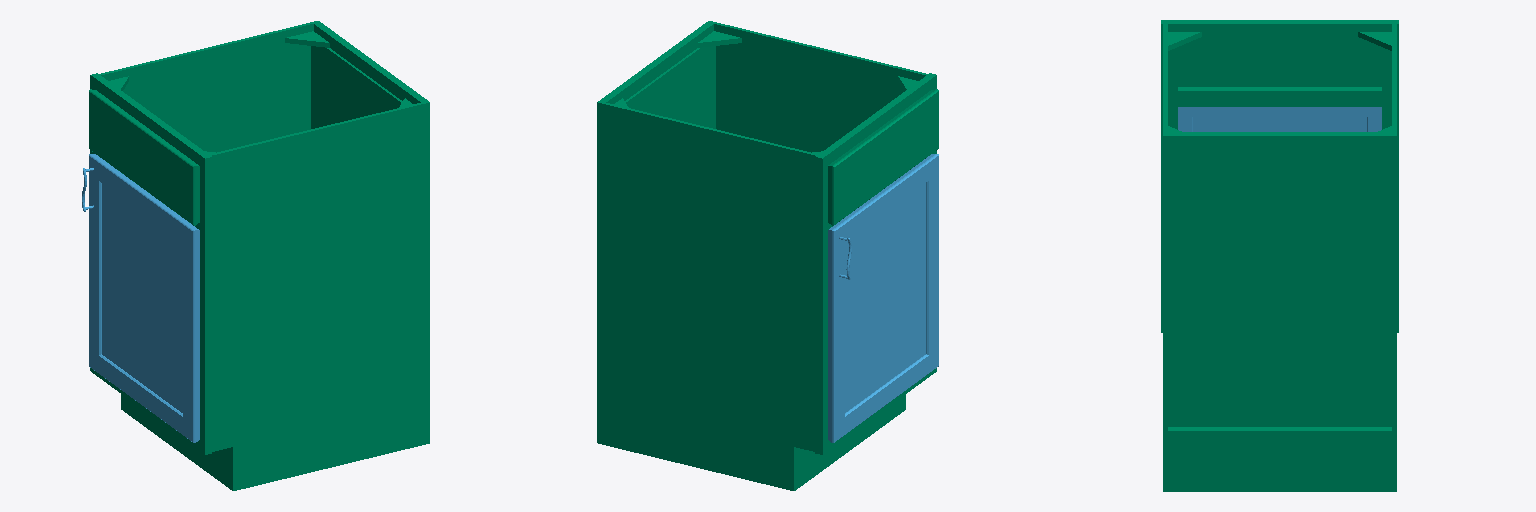
The robot description file, URDF, robot "partnet_29ce2b045bc6111912de5317fe5b354f":
<?xml version="1.0" ?>
<robot name="partnet_29ce2b045bc6111912de5317fe5b354f">
	<link name="base"/>
	<link name="link_0">
		<visual name="cabinet_door_surface-8">
			<origin xyz="-0.39708718953241895 -0.7673599720001221 -0.5064839148199859"/>
			<geometry>
				<mesh filename="textured_objs/original-46.obj"/>
			</geometry>
		</visual>
		<visual name="cabinet_door_surface-8">
			<origin xyz="-0.39708718953241895 -0.7673599720001221 -0.5064839148199859"/>
			<geometry>
				<mesh filename="textured_objs/original-43.obj"/>
			</geometry>
		</visual>
		<visual name="cabinet_door_surface-8">
			<origin xyz="-0.39708718953241895 -0.7673599720001221 -0.5064839148199859"/>
			<geometry>
				<mesh filename="textured_objs/original-37.obj"/>
			</geometry>
		</visual>
		<visual name="cabinet_door_surface-8">
			<origin xyz="-0.39708718953241895 -0.7673599720001221 -0.5064839148199859"/>
			<geometry>
				<mesh filename="textured_objs/original-41.obj"/>
			</geometry>
		</visual>
		<visual name="cabinet_door_surface-8">
			<origin xyz="-0.39708718953241895 -0.7673599720001221 -0.5064839148199859"/>
			<geometry>
				<mesh filename="textured_objs/original-38.obj"/>
			</geometry>
		</visual>
		<visual name="cabinet_door_surface-8">
			<origin xyz="-0.39708718953241895 -0.7673599720001221 -0.5064839148199859"/>
			<geometry>
				<mesh filename="textured_objs/original-44.obj"/>
			</geometry>
		</visual>
		<visual name="cabinet_door_surface-8">
			<origin xyz="-0.39708718953241895 -0.7673599720001221 -0.5064839148199859"/>
			<geometry>
				<mesh filename="textured_objs/original-40.obj"/>
			</geometry>
		</visual>
		<visual name="cabinet_door_surface-8">
			<origin xyz="-0.39708718953241895 -0.7673599720001221 -0.5064839148199859"/>
			<geometry>
				<mesh filename="textured_objs/original-42.obj"/>
			</geometry>
		</visual>
		<visual name="cabinet_door_surface-8">
			<origin xyz="-0.39708718953241895 -0.7673599720001221 -0.5064839148199859"/>
			<geometry>
				<mesh filename="textured_objs/original-39.obj"/>
			</geometry>
		</visual>
		<visual name="cabinet_door_surface-8">
			<origin xyz="-0.39708718953241895 -0.7673599720001221 -0.5064839148199859"/>
			<geometry>
				<mesh filename="textured_objs/original-47.obj"/>
			</geometry>
		</visual>
		<visual name="handle-9">
			<origin xyz="-0.39708718953241895 -0.7673599720001221 -0.5064839148199859"/>
			<geometry>
				<mesh filename="textured_objs/original-48.obj"/>
			</geometry>
		</visual>
		<collision>
			<origin xyz="-0.39708718953241895 -0.7673599720001221 -0.5064839148199859"/>
			<geometry>
				<mesh filename="textured_objs/original-46.obj"/>
			</geometry>
		</collision>
		<collision>
			<origin xyz="-0.39708718953241895 -0.7673599720001221 -0.5064839148199859"/>
			<geometry>
				<mesh filename="textured_objs/original-43.obj"/>
			</geometry>
		</collision>
		<collision>
			<origin xyz="-0.39708718953241895 -0.7673599720001221 -0.5064839148199859"/>
			<geometry>
				<mesh filename="textured_objs/original-37.obj"/>
			</geometry>
		</collision>
		<collision>
			<origin xyz="-0.39708718953241895 -0.7673599720001221 -0.5064839148199859"/>
			<geometry>
				<mesh filename="textured_objs/original-41.obj"/>
			</geometry>
		</collision>
		<collision>
			<origin xyz="-0.39708718953241895 -0.7673599720001221 -0.5064839148199859"/>
			<geometry>
				<mesh filename="textured_objs/original-38.obj"/>
			</geometry>
		</collision>
		<collision>
			<origin xyz="-0.39708718953241895 -0.7673599720001221 -0.5064839148199859"/>
			<geometry>
				<mesh filename="textured_objs/original-44.obj"/>
			</geometry>
		</collision>
		<collision>
			<origin xyz="-0.39708718953241895 -0.7673599720001221 -0.5064839148199859"/>
			<geometry>
				<mesh filename="textured_objs/original-40.obj"/>
			</geometry>
		</collision>
		<collision>
			<origin xyz="-0.39708718953241895 -0.7673599720001221 -0.5064839148199859"/>
			<geometry>
				<mesh filename="textured_objs/original-42.obj"/>
			</geometry>
		</collision>
		<collision>
			<origin xyz="-0.39708718953241895 -0.7673599720001221 -0.5064839148199859"/>
			<geometry>
				<mesh filename="textured_objs/original-39.obj"/>
			</geometry>
		</collision>
		<collision>
			<origin xyz="-0.39708718953241895 -0.7673599720001221 -0.5064839148199859"/>
			<geometry>
				<mesh filename="textured_objs/original-47.obj"/>
			</geometry>
		</collision>
		<collision>
			<origin xyz="-0.39708718953241895 -0.7673599720001221 -0.5064839148199859"/>
			<geometry>
				<mesh filename="textured_objs/original-48.obj"/>
			</geometry>
		</collision>
	</link>
	<joint name="joint_0" type="revolute">
		<origin xyz="0.39708718953241895 0.7673599720001221 0.5064839148199859"/>
		<axis xyz="0 1 0"/>
		<child link="link_0"/>
		<parent link="link_1"/>
		<limit lower="0.0" upper="1.6461945504810518"/>
	</joint>
	<link name="link_1">
		<visual name="drawer_front-7">
			<origin xyz="0 0 0"/>
			<geometry>
				<mesh filename="textured_objs/original-35.obj"/>
			</geometry>
		</visual>
		<visual name="drawer_front-7">
			<origin xyz="0 0 0"/>
			<geometry>
				<mesh filename="textured_objs/original-34.obj"/>
			</geometry>
		</visual>
		<visual name="drawer_front-7">
			<origin xyz="0 0 0"/>
			<geometry>
				<mesh filename="textured_objs/original-31.obj"/>
			</geometry>
		</visual>
		<visual name="drawer_front-7">
			<origin xyz="0 0 0"/>
			<geometry>
				<mesh filename="textured_objs/original-29.obj"/>
			</geometry>
		</visual>
		<visual name="drawer_front-7">
			<origin xyz="0 0 0"/>
			<geometry>
				<mesh filename="textured_objs/original-25.obj"/>
			</geometry>
		</visual>
		<visual name="drawer_front-7">
			<origin xyz="0 0 0"/>
			<geometry>
				<mesh filename="textured_objs/original-28.obj"/>
			</geometry>
		</visual>
		<visual name="drawer_front-7">
			<origin xyz="0 0 0"/>
			<geometry>
				<mesh filename="textured_objs/original-30.obj"/>
			</geometry>
		</visual>
		<visual name="drawer_front-7">
			<origin xyz="0 0 0"/>
			<geometry>
				<mesh filename="textured_objs/original-32.obj"/>
			</geometry>
		</visual>
		<visual name="drawer_front-7">
			<origin xyz="0 0 0"/>
			<geometry>
				<mesh filename="textured_objs/original-27.obj"/>
			</geometry>
		</visual>
		<visual name="drawer_front-7">
			<origin xyz="0 0 0"/>
			<geometry>
				<mesh filename="textured_objs/original-26.obj"/>
			</geometry>
		</visual>
		<visual name="other_leaf-29">
			<origin xyz="0 0 0"/>
			<geometry>
				<mesh filename="textured_objs/original-23.obj"/>
			</geometry>
		</visual>
		<visual name="other_leaf-28">
			<origin xyz="0 0 0"/>
			<geometry>
				<mesh filename="textured_objs/original-21.obj"/>
			</geometry>
		</visual>
		<visual name="other_leaf-27">
			<origin xyz="0 0 0"/>
			<geometry>
				<mesh filename="textured_objs/original-20.obj"/>
			</geometry>
		</visual>
		<visual name="vertical_side_panel-30">
			<origin xyz="0 0 0"/>
			<geometry>
				<mesh filename="textured_objs/original-11.obj"/>
			</geometry>
		</visual>
		<visual name="vertical_side_panel-30">
			<origin xyz="0 0 0"/>
			<geometry>
				<mesh filename="textured_objs/original-10.obj"/>
			</geometry>
		</visual>
		<visual name="vertical_side_panel-31">
			<origin xyz="0 0 0"/>
			<geometry>
				<mesh filename="textured_objs/original-15.obj"/>
			</geometry>
		</visual>
		<visual name="vertical_side_panel-31">
			<origin xyz="0 0 0"/>
			<geometry>
				<mesh filename="textured_objs/original-14.obj"/>
			</geometry>
		</visual>
		<visual name="back_panel-32">
			<origin xyz="0 0 0"/>
			<geometry>
				<mesh filename="textured_objs/original-5.obj"/>
			</geometry>
		</visual>
		<visual name="back_panel-32">
			<origin xyz="0 0 0"/>
			<geometry>
				<mesh filename="textured_objs/original-4.obj"/>
			</geometry>
		</visual>
		<visual name="bottom_panel-33">
			<origin xyz="0 0 0"/>
			<geometry>
				<mesh filename="textured_objs/original-2.obj"/>
			</geometry>
		</visual>
		<visual name="frame_vertical_bar-34">
			<origin xyz="0 0 0"/>
			<geometry>
				<mesh filename="textured_objs/original-3.obj"/>
			</geometry>
		</visual>
		<visual name="frame_vertical_bar-35">
			<origin xyz="0 0 0"/>
			<geometry>
				<mesh filename="textured_objs/original-7.obj"/>
			</geometry>
		</visual>
		<visual name="frame_horizontal_bar-36">
			<origin xyz="0 0 0"/>
			<geometry>
				<mesh filename="textured_objs/original-8.obj"/>
			</geometry>
		</visual>
		<visual name="frame_horizontal_bar-37">
			<origin xyz="0 0 0"/>
			<geometry>
				<mesh filename="textured_objs/original-17.obj"/>
			</geometry>
		</visual>
		<visual name="frame_horizontal_bar-38">
			<origin xyz="0 0 0"/>
			<geometry>
				<mesh filename="textured_objs/original-6.obj"/>
			</geometry>
		</visual>
		<visual name="other_leaf-40">
			<origin xyz="0 0 0"/>
			<geometry>
				<mesh filename="textured_objs/original-22.obj"/>
			</geometry>
		</visual>
		<visual name="other_leaf-42">
			<origin xyz="0 0 0"/>
			<geometry>
				<mesh filename="textured_objs/original-49.obj"/>
			</geometry>
		</visual>
		<visual name="base_side_panel-11">
			<origin xyz="0 0 0"/>
			<geometry>
				<mesh filename="textured_objs/original-12.obj"/>
			</geometry>
		</visual>
		<visual name="base_side_panel-12">
			<origin xyz="0 0 0"/>
			<geometry>
				<mesh filename="textured_objs/original-18.obj"/>
			</geometry>
		</visual>
		<visual name="base_side_panel-13">
			<origin xyz="0 0 0"/>
			<geometry>
				<mesh filename="textured_objs/original-16.obj"/>
			</geometry>
		</visual>
		<visual name="base_side_panel-14">
			<origin xyz="0 0 0"/>
			<geometry>
				<mesh filename="textured_objs/original-19.obj"/>
			</geometry>
		</visual>
		<collision>
			<origin xyz="0 0 0"/>
			<geometry>
				<mesh filename="textured_objs/original-35.obj"/>
			</geometry>
		</collision>
		<collision>
			<origin xyz="0 0 0"/>
			<geometry>
				<mesh filename="textured_objs/original-34.obj"/>
			</geometry>
		</collision>
		<collision>
			<origin xyz="0 0 0"/>
			<geometry>
				<mesh filename="textured_objs/original-31.obj"/>
			</geometry>
		</collision>
		<collision>
			<origin xyz="0 0 0"/>
			<geometry>
				<mesh filename="textured_objs/original-29.obj"/>
			</geometry>
		</collision>
		<collision>
			<origin xyz="0 0 0"/>
			<geometry>
				<mesh filename="textured_objs/original-25.obj"/>
			</geometry>
		</collision>
		<collision>
			<origin xyz="0 0 0"/>
			<geometry>
				<mesh filename="textured_objs/original-28.obj"/>
			</geometry>
		</collision>
		<collision>
			<origin xyz="0 0 0"/>
			<geometry>
				<mesh filename="textured_objs/original-30.obj"/>
			</geometry>
		</collision>
		<collision>
			<origin xyz="0 0 0"/>
			<geometry>
				<mesh filename="textured_objs/original-32.obj"/>
			</geometry>
		</collision>
		<collision>
			<origin xyz="0 0 0"/>
			<geometry>
				<mesh filename="textured_objs/original-27.obj"/>
			</geometry>
		</collision>
		<collision>
			<origin xyz="0 0 0"/>
			<geometry>
				<mesh filename="textured_objs/original-26.obj"/>
			</geometry>
		</collision>
		<collision>
			<origin xyz="0 0 0"/>
			<geometry>
				<mesh filename="textured_objs/original-23.obj"/>
			</geometry>
		</collision>
		<collision>
			<origin xyz="0 0 0"/>
			<geometry>
				<mesh filename="textured_objs/original-21.obj"/>
			</geometry>
		</collision>
		<collision>
			<origin xyz="0 0 0"/>
			<geometry>
				<mesh filename="textured_objs/original-20.obj"/>
			</geometry>
		</collision>
		<collision>
			<origin xyz="0 0 0"/>
			<geometry>
				<mesh filename="textured_objs/original-11.obj"/>
			</geometry>
		</collision>
		<collision>
			<origin xyz="0 0 0"/>
			<geometry>
				<mesh filename="textured_objs/original-10.obj"/>
			</geometry>
		</collision>
		<collision>
			<origin xyz="0 0 0"/>
			<geometry>
				<mesh filename="textured_objs/original-15.obj"/>
			</geometry>
		</collision>
		<collision>
			<origin xyz="0 0 0"/>
			<geometry>
				<mesh filename="textured_objs/original-14.obj"/>
			</geometry>
		</collision>
		<collision>
			<origin xyz="0 0 0"/>
			<geometry>
				<mesh filename="textured_objs/original-5.obj"/>
			</geometry>
		</collision>
		<collision>
			<origin xyz="0 0 0"/>
			<geometry>
				<mesh filename="textured_objs/original-4.obj"/>
			</geometry>
		</collision>
		<collision>
			<origin xyz="0 0 0"/>
			<geometry>
				<mesh filename="textured_objs/original-2.obj"/>
			</geometry>
		</collision>
		<collision>
			<origin xyz="0 0 0"/>
			<geometry>
				<mesh filename="textured_objs/original-3.obj"/>
			</geometry>
		</collision>
		<collision>
			<origin xyz="0 0 0"/>
			<geometry>
				<mesh filename="textured_objs/original-7.obj"/>
			</geometry>
		</collision>
		<collision>
			<origin xyz="0 0 0"/>
			<geometry>
				<mesh filename="textured_objs/original-8.obj"/>
			</geometry>
		</collision>
		<collision>
			<origin xyz="0 0 0"/>
			<geometry>
				<mesh filename="textured_objs/original-17.obj"/>
			</geometry>
		</collision>
		<collision>
			<origin xyz="0 0 0"/>
			<geometry>
				<mesh filename="textured_objs/original-6.obj"/>
			</geometry>
		</collision>
		<collision>
			<origin xyz="0 0 0"/>
			<geometry>
				<mesh filename="textured_objs/original-22.obj"/>
			</geometry>
		</collision>
		<collision>
			<origin xyz="0 0 0"/>
			<geometry>
				<mesh filename="textured_objs/original-49.obj"/>
			</geometry>
		</collision>
		<collision>
			<origin xyz="0 0 0"/>
			<geometry>
				<mesh filename="textured_objs/original-12.obj"/>
			</geometry>
		</collision>
		<collision>
			<origin xyz="0 0 0"/>
			<geometry>
				<mesh filename="textured_objs/original-18.obj"/>
			</geometry>
		</collision>
		<collision>
			<origin xyz="0 0 0"/>
			<geometry>
				<mesh filename="textured_objs/original-16.obj"/>
			</geometry>
		</collision>
		<collision>
			<origin xyz="0 0 0"/>
			<geometry>
				<mesh filename="textured_objs/original-19.obj"/>
			</geometry>
		</collision>
	</link>
	<joint name="joint_1" type="fixed">
		<origin rpy="1.570796326794897 0 -1.570796326794897" xyz="0 0 0"/>
		<child link="link_1"/>
		<parent link="base"/>
	</joint>
</robot>

--- Render facts (derived) ---
The picture shows the robot from 3 angles, left to right: view 1: azimuth 30°, elevation 25°; view 2: azimuth 150°, elevation 25°; view 3: azimuth 270°, elevation 25°; orthographic projection.
Robot: partnet_29ce2b045bc6111912de5317fe5b354f — 3 links, 2 joints (1 revolute, 1 fixed); root link base; default pose: every joint at zero.
Visible links, largest first — view 1: link_1, link_0; view 2: link_1, link_0; view 3: link_1, link_0.
Link boxes in pixels (x1,y1,x2,y2): link_1: [89, 21, 429, 490]; link_0: [82, 154, 199, 442]; link_1: [597, 21, 938, 490]; link_0: [828, 154, 938, 442]; link_1: [1161, 20, 1398, 491]; link_0: [1178, 107, 1381, 131].
Bounding box of the posed robot: 1.08 × 0.8794 × 1.44 m (x, y, z).
42 mesh visuals loaded from 42 distinct referenced files (42 OBJ).
